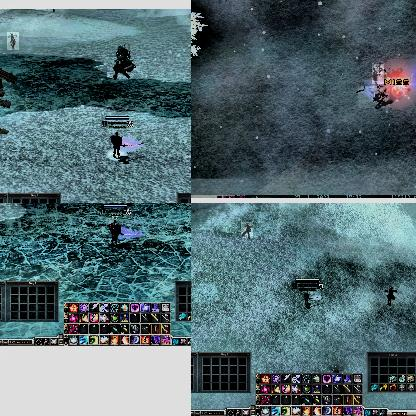caliana: (358, 86, 390, 108), (372, 64, 384, 84), (7, 32, 19, 50), (385, 286, 397, 304), (241, 222, 253, 238)
